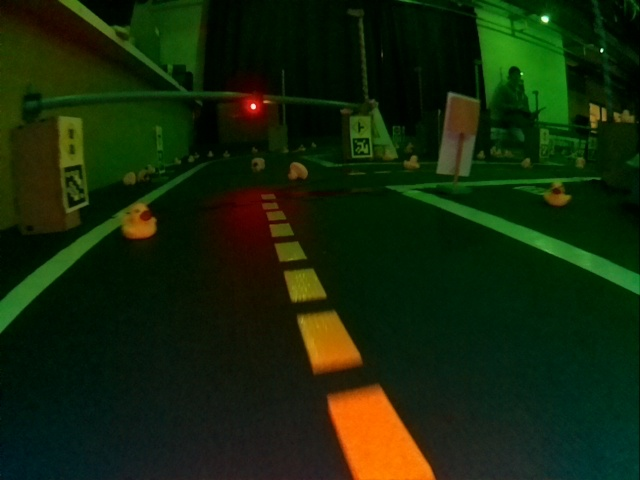Duckie: (125, 207, 154, 239), (547, 186, 570, 205), (289, 164, 305, 178), (405, 158, 419, 168), (255, 161, 265, 172), (124, 174, 134, 183), (523, 158, 531, 167)
Intersection sign: (351, 119, 369, 135)
QR code: (64, 166, 86, 209), (351, 138, 372, 157)
Traffic light: (249, 93, 260, 112)
